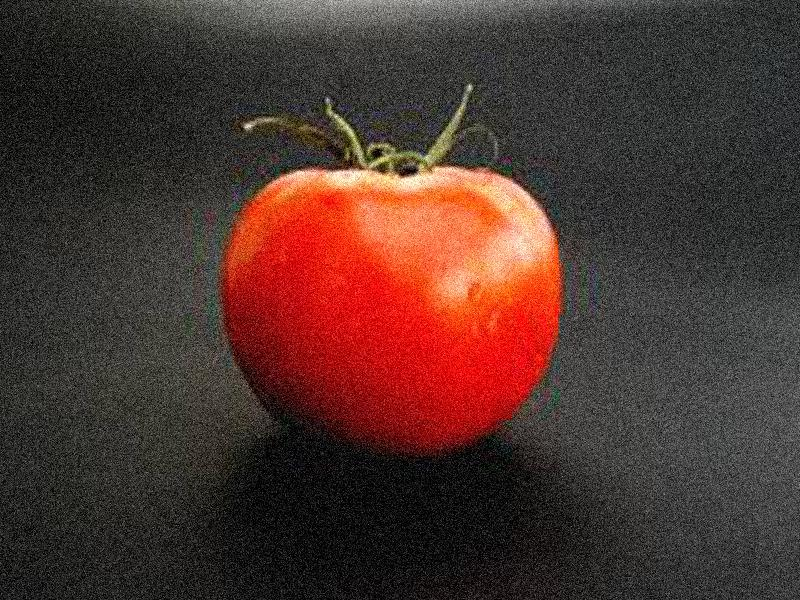Tomato: (224, 167, 564, 452)
